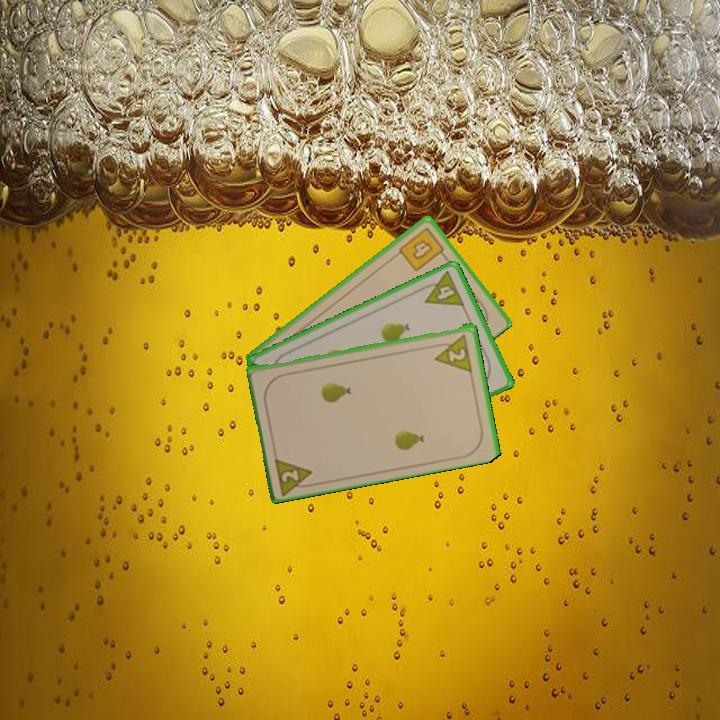2p: (271, 452, 318, 496), (430, 330, 475, 374)
4b: (395, 223, 450, 274)
4p: (416, 267, 467, 309)
